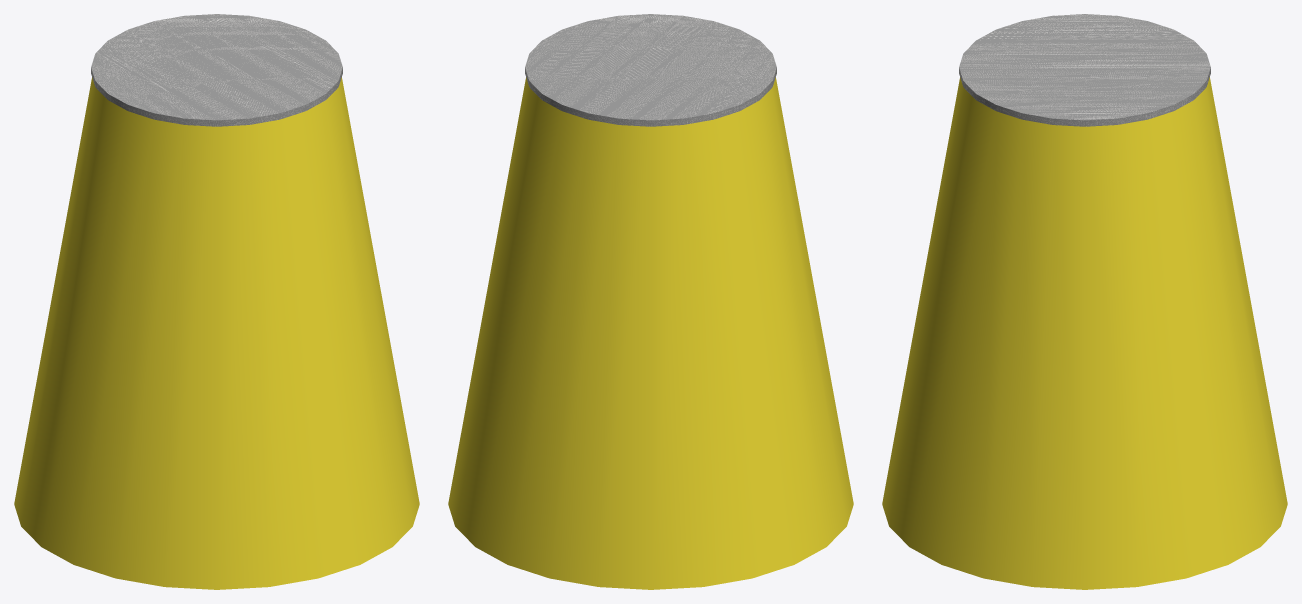
Rendered from warning_light.dae.
3 renders of one model, left to right at view 1: azimuth 30°, elevation 25°; view 2: azimuth 150°, elevation 25°; view 3: azimuth 270°, elevation 25°, orthographic.
Parts seen in each view (by area): view 1: group_0, group_1; view 2: group_0, group_1; view 3: group_0, group_1.
Boxes of the visible parts, x1,y1,x2,y2 form: group_0: (14,77,419,589); group_1: (91,14,342,126); group_0: (448,77,853,589); group_1: (525,14,776,126); group_0: (882,77,1287,589); group_1: (959,14,1210,126).
Bounding box in the file's own units: 186 × 186 × 221.
